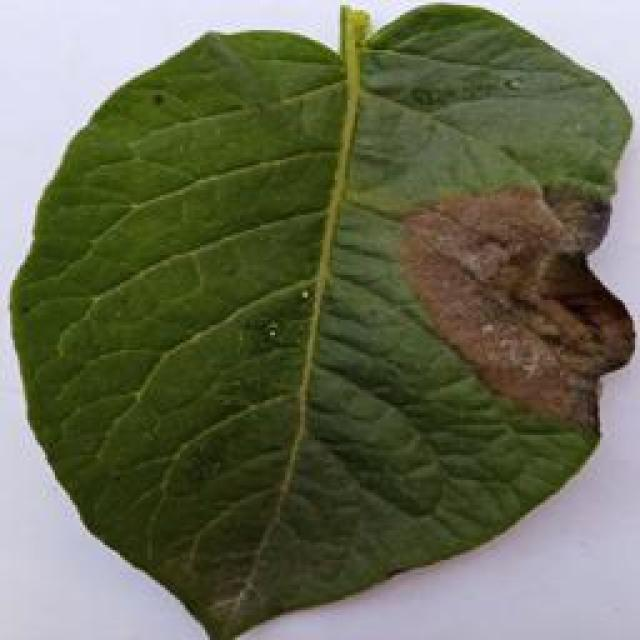Potato_Late_Blight: (5, 15, 635, 640)
